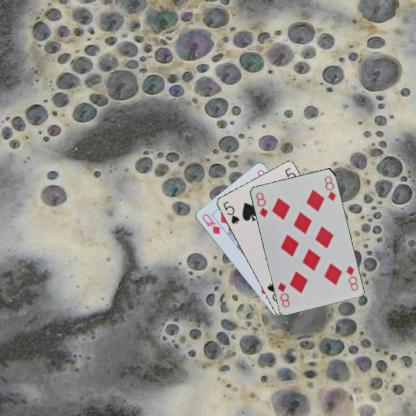5s: (220, 198, 240, 226)
8d: (344, 263, 360, 292), (253, 190, 269, 218)
Qd: (199, 211, 221, 236)
